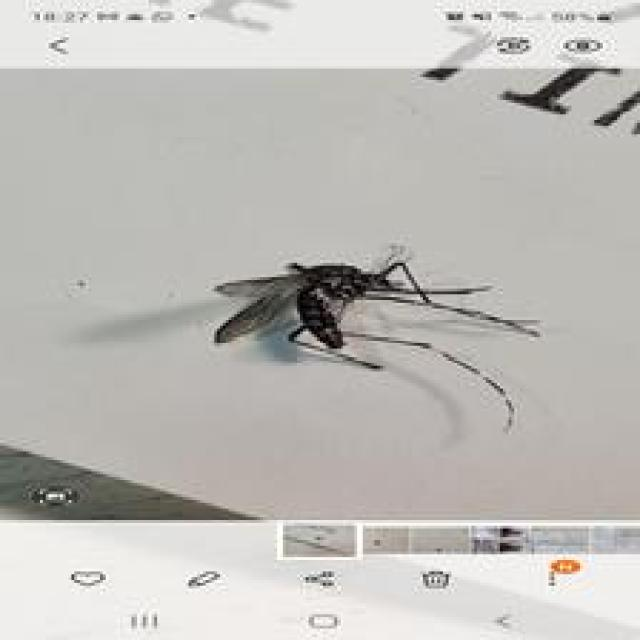Aedes albopictus: (211, 249, 543, 434)
